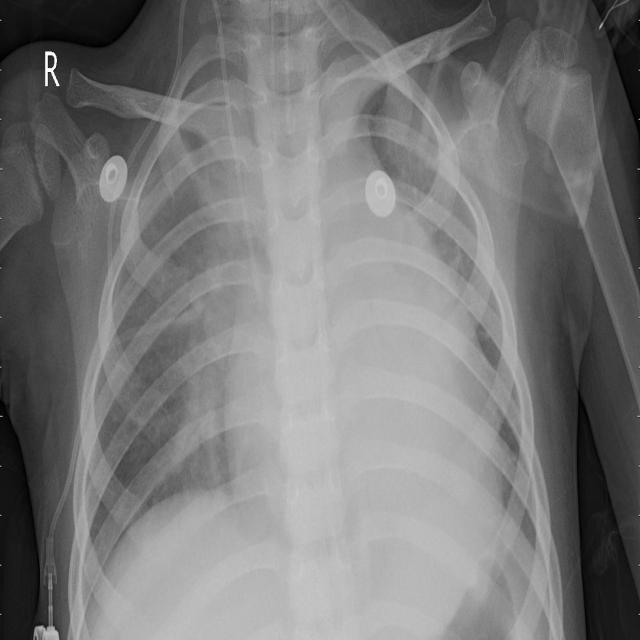low-pneumonia: (155, 84, 247, 497), (380, 95, 459, 251)
